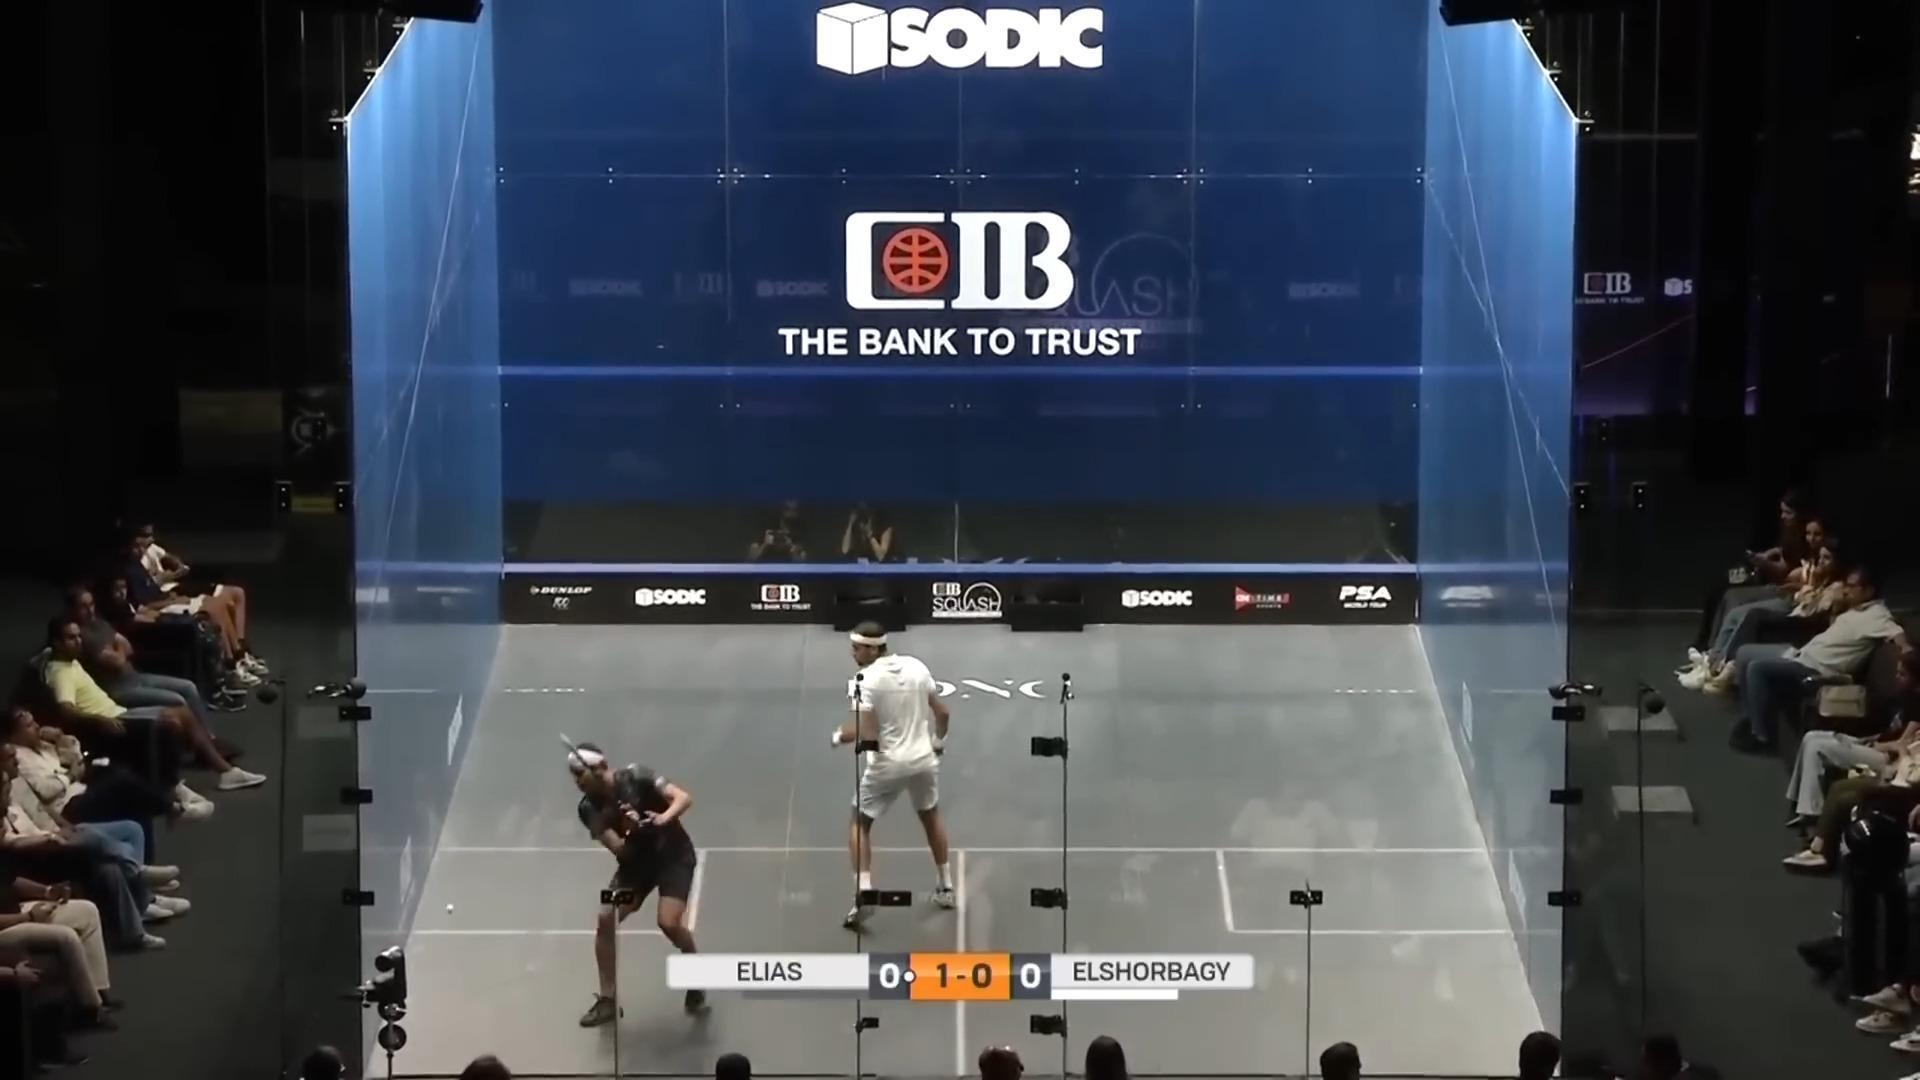Squash-Ball: (435, 893, 464, 920)
